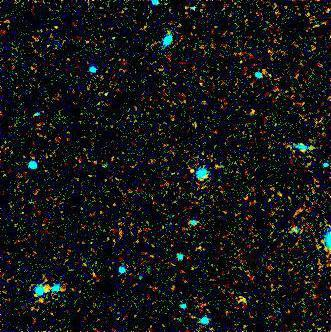star: (178, 155, 208, 185)
